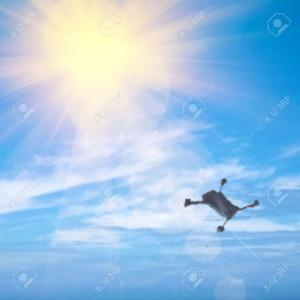drone: (170, 168, 253, 251)
